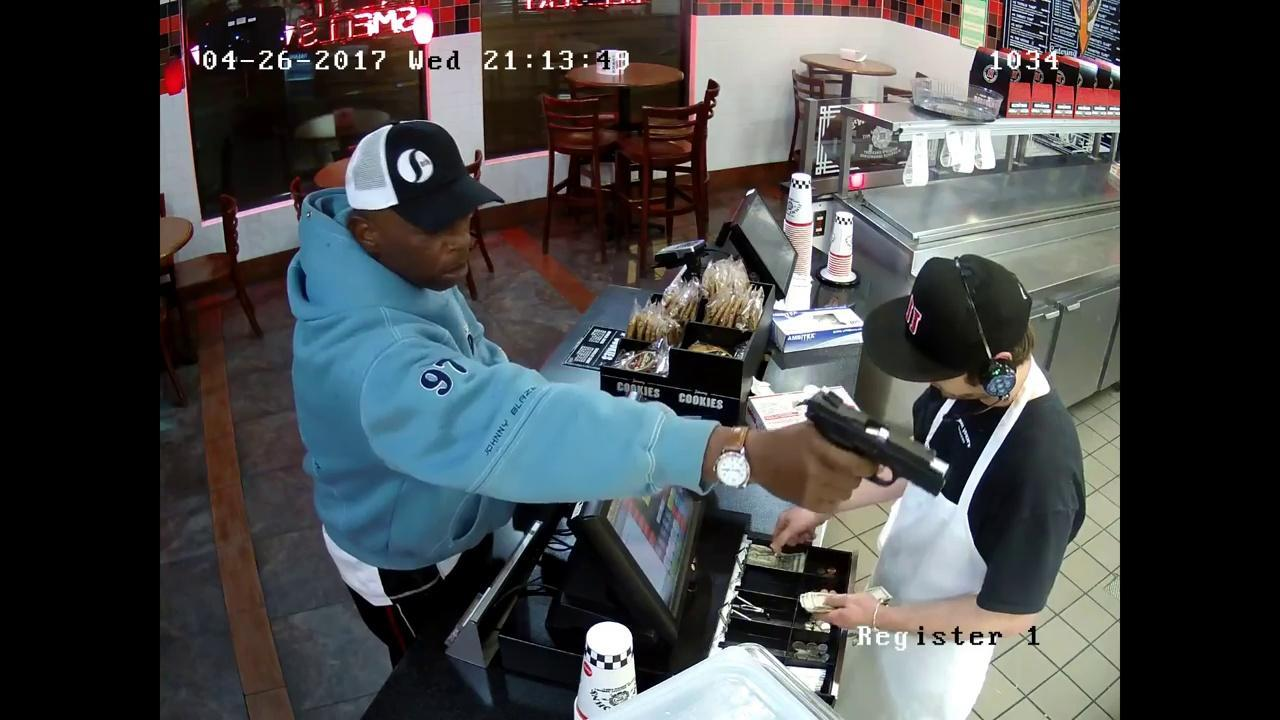Guns: (772, 379, 984, 514)
